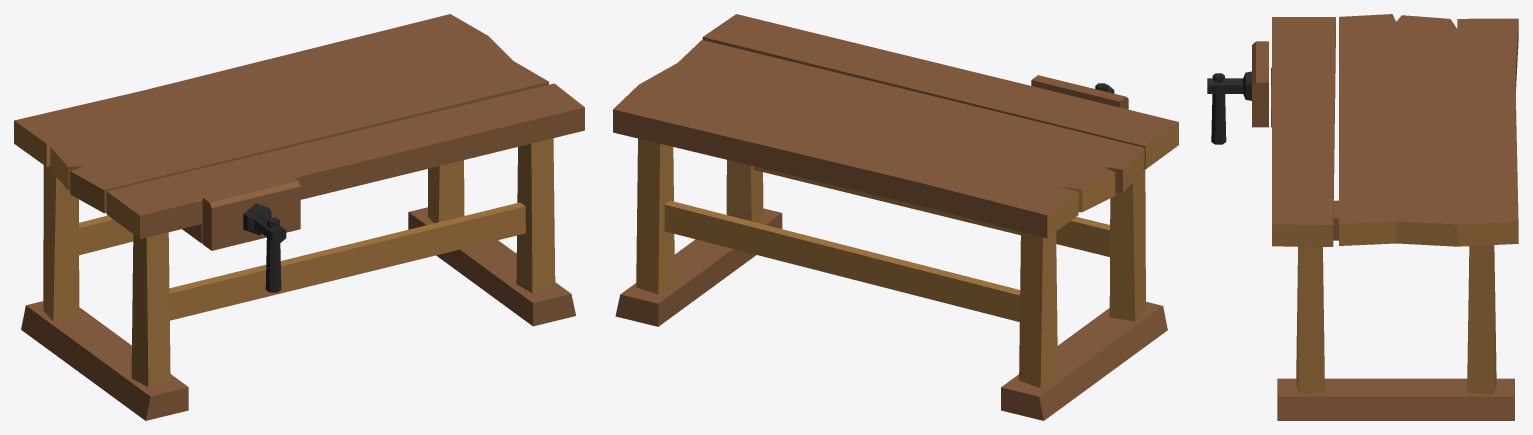
The model's file is fantasy_table-crafting-wood.fbx.
3 views of the same model, side by side, from view 1: azimuth 30°, elevation 25°; view 2: azimuth 150°, elevation 25°; view 3: azimuth 270°, elevation 25° (orthographic). The views are drawn at different scales.
Parts seen in each view (by area): view 1: fantasy_table_crafting_wood; view 2: fantasy_table_crafting_wood; view 3: fantasy_table_crafting_wood.
Part boxes in pixels (x1,y1,x2,y2): fantasy_table_crafting_wood: (14,14,584,420); fantasy_table_crafting_wood: (613,14,1178,420); fantasy_table_crafting_wood: (1207,14,1518,420).
Size of the model in its own units: 200 by 90.05 by 125.
